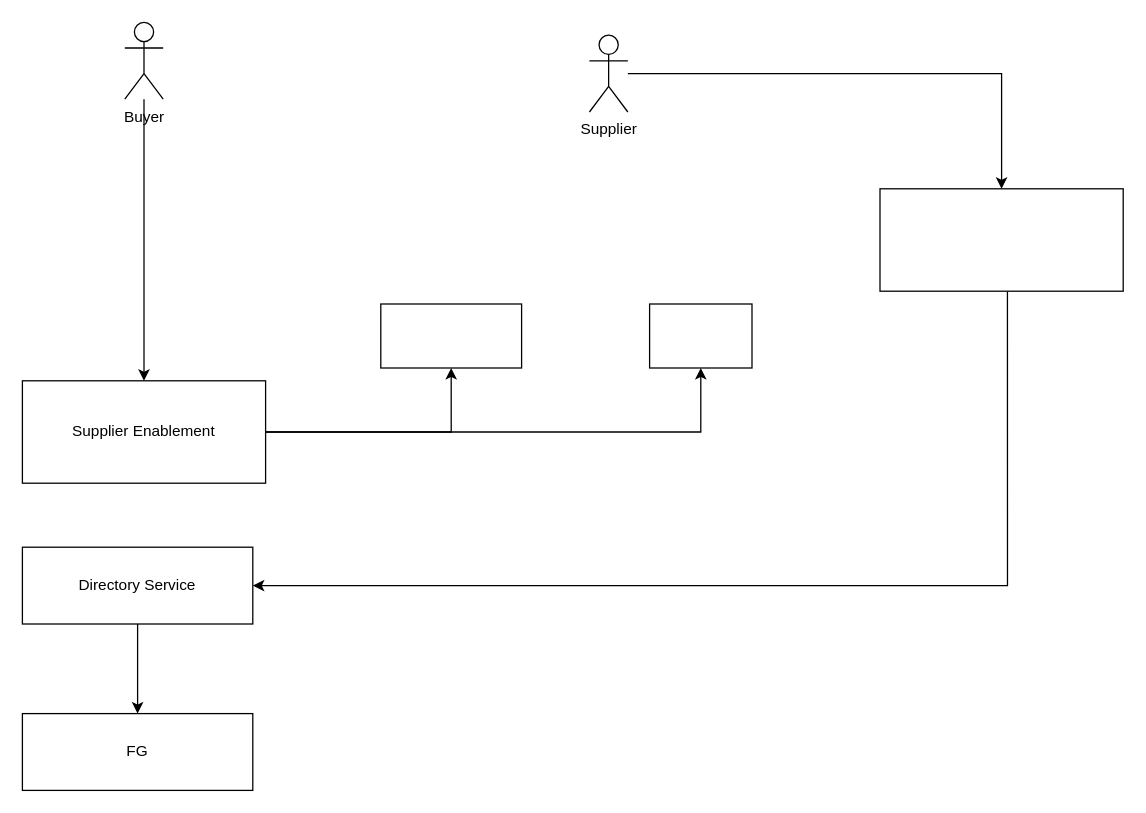
The diagram is 1146 pixels wide and 813 high, and some of its shapes have lost their labels. Here are the shapes that lost their labels. From the top down, the centre of each, then its label:
the point at 1001,239: Portal Dashboard
the point at 451,335: In-app Notification Service
the point at 700,335: Mail Service
